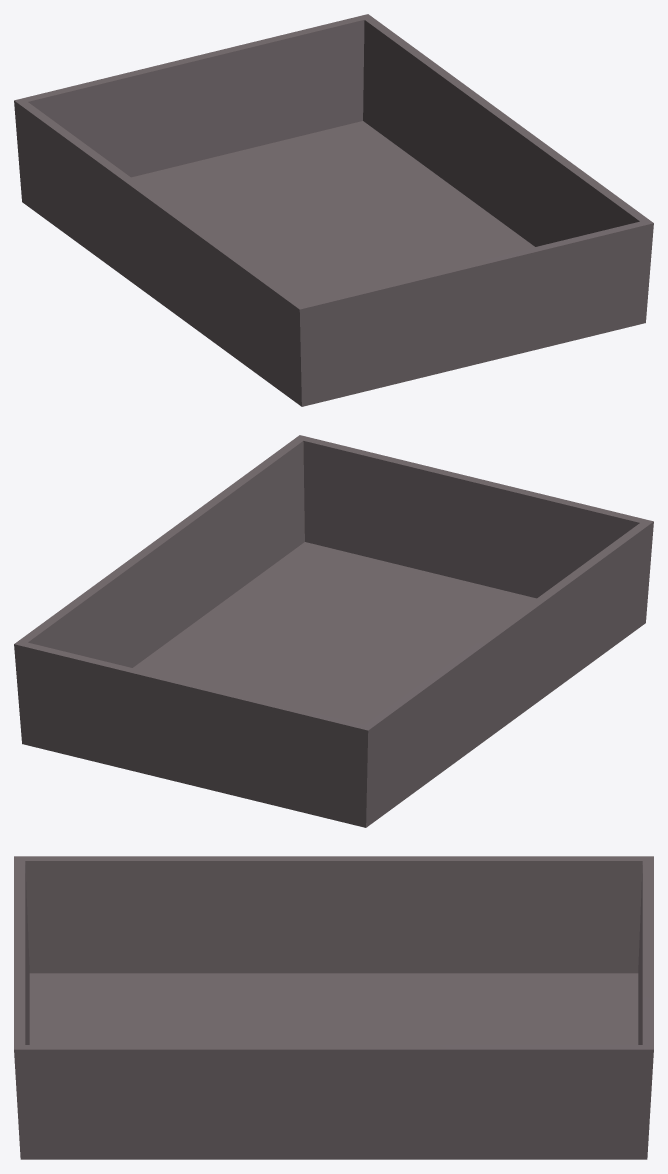
File: cake tin rectangular.fbx
3 renders of one model, top to bottom at view 1: azimuth 30°, elevation 25°; view 2: azimuth 150°, elevation 25°; view 3: azimuth 270°, elevation 25°, orthographic. The views are drawn at different scales.
Visible parts, largest first — view 1: rectangular cake pan.001; view 2: rectangular cake pan.001; view 3: rectangular cake pan.001.
Part boxes in pixels (x1=…): rectangular cake pan.001: x1=14, y1=14, x2=653, y2=406; rectangular cake pan.001: x1=14, y1=435, x2=653, y2=827; rectangular cake pan.001: x1=14, y1=856, x2=653, y2=1159.
Bounding box in the file's own units: 35.75 × 9.73 × 49.95.
